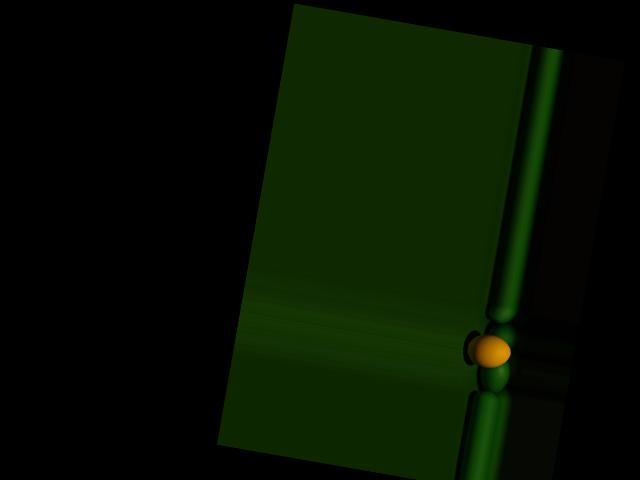egg: (464, 331, 512, 371)
